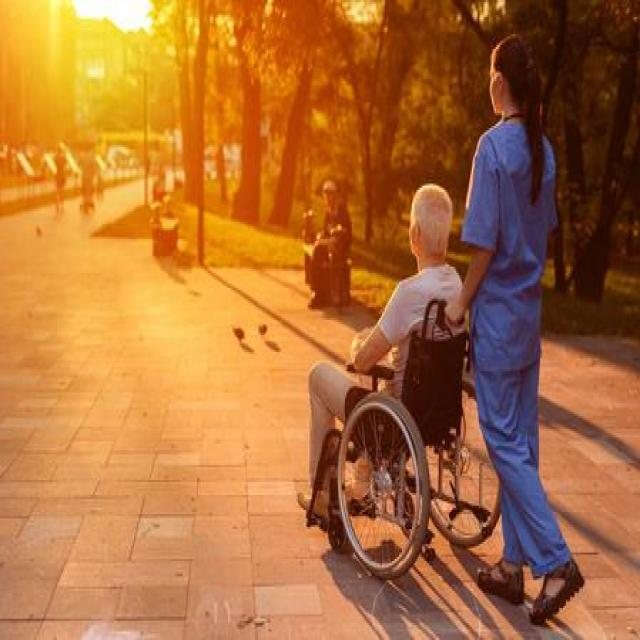wheelchairs: (297, 292, 512, 588)
